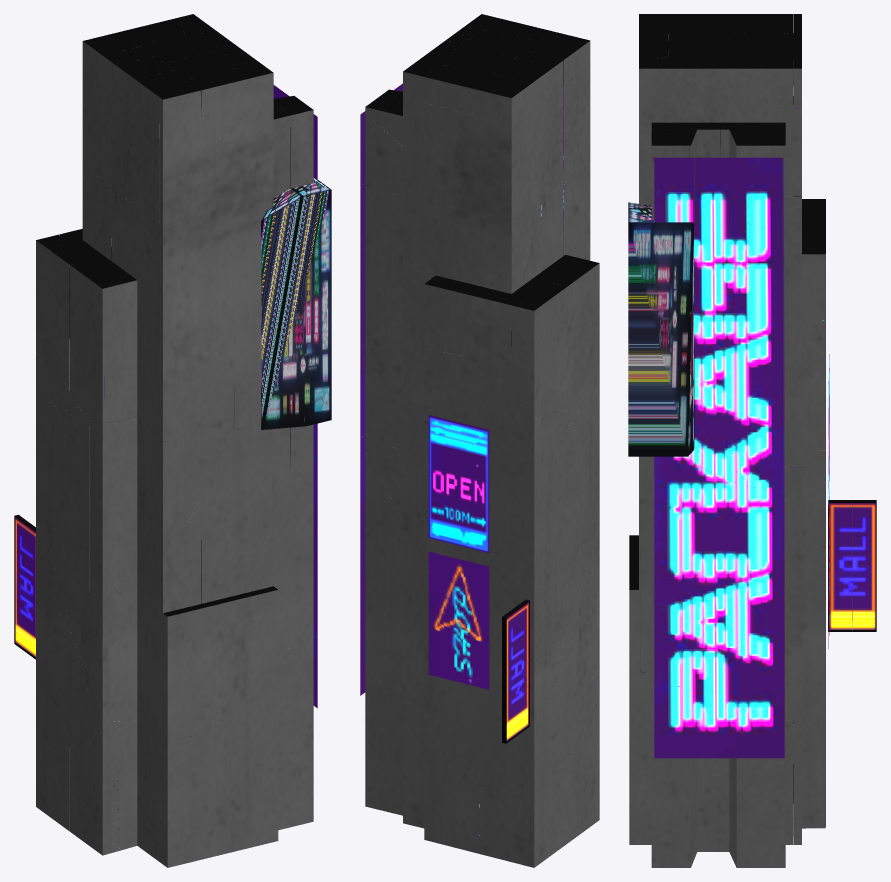
Rendered from shellyGebouw1_Broken.fbx.
3 renders of one model, left to right at view 1: azimuth 30°, elevation 25°; view 2: azimuth 150°, elevation 25°; view 3: azimuth 270°, elevation 25°, orthographic. The views are drawn at different scales.
Parts seen in each view (by area): view 1: Cube.001_cell.029, Cube.001_cell.013, Cube.001_cell.033, Cube.001_cell.055, Cube.001_cell.078, Cube.001_cell.060, Cube.001_cell.093, Cube.001_cell.023, Cube.001_cell.066, Cube.001_cell.086, Cube.001_cell.030, Cube.001_cell.021 (+50 smaller); view 2: Cube.001_cell.089, Cube.001_cell.045, Cube.001_cell.056, Cube.001_cell.072, Cube.001_cell.019, Cube.001_cell.053, Cube.001_cell.026, Cube.001_cell.032, Cube.001_cell.036, Cube.001_cell.003, Cube.001_cell.070, Cube.001_cell.082 (+59 smaller); view 3: Cube.001_cell.101, Cube.001_cell.013, Cube.001_cell.111, Cube.001_cell.110, Cube.001_cell.100, Cube.001_cell.115, Cube.001_cell.060, Cube.001_cell.123, Cube.001_cell.089, Cube.001_cell.020, Cube.001_cell.113, Cube.001_cell.056 (+45 smaller).
Part boxes in pixels (x1=…): Cube.001_cell.029: x1=147, y1=212, x2=234, y2=441; Cube.001_cell.013: x1=261, y1=178, x2=331, y2=429; Cube.001_cell.033: x1=101, y1=419, x2=222, y2=598; Cube.001_cell.055: x1=67, y1=558, x2=149, y2=728; Cube.001_cell.078: x1=201, y1=427, x2=258, y2=605; Cube.001_cell.060: x1=207, y1=641, x2=313, y2=770; Cube.001_cell.093: x1=165, y1=733, x2=223, y2=867; Cube.001_cell.023: x1=218, y1=99, x2=290, y2=221; Cube.001_cell.066: x1=104, y1=206, x2=146, y2=425; Cube.001_cell.086: x1=204, y1=592, x2=261, y2=732; Cube.001_cell.030: x1=150, y1=506, x2=203, y2=740; Cube.001_cell.021: x1=234, y1=211, x2=266, y2=429; Cube.001_cell.089: x1=365, y1=330, x2=575, y2=474; Cube.001_cell.045: x1=465, y1=651, x2=599, y2=796; Cube.001_cell.056: x1=398, y1=192, x2=473, y2=339; Cube.001_cell.072: x1=465, y1=213, x2=532, y2=394; Cube.001_cell.019: x1=403, y1=631, x2=568, y2=768; Cube.001_cell.053: x1=403, y1=101, x2=473, y2=212; Cube.001_cell.026: x1=460, y1=446, x2=554, y2=589; Cube.001_cell.032: x1=473, y1=115, x2=527, y2=221; Cube.001_cell.036: x1=365, y1=451, x2=389, y2=683; Cube.001_cell.003: x1=540, y1=205, x2=599, y2=413; Cube.001_cell.070: x1=424, y1=741, x2=479, y2=853; Cube.001_cell.082: x1=390, y1=497, x2=419, y2=691; Cube.001_cell.101: x1=694, y1=222, x2=784, y2=448; Cube.001_cell.013: x1=628, y1=202, x2=693, y2=456; Cube.001_cell.111: x1=654, y1=456, x2=702, y2=686; Cube.001_cell.110: x1=740, y1=485, x2=784, y2=735; Cube.001_cell.100: x1=702, y1=468, x2=740, y2=702; Cube.001_cell.115: x1=654, y1=686, x2=784, y2=758; Cube.001_cell.060: x1=629, y1=671, x2=785, y2=811; Cube.001_cell.123: x1=688, y1=397, x2=784, y2=492; Cube.001_cell.089: x1=694, y1=319, x2=825, y2=489; Cube.001_cell.020: x1=713, y1=768, x2=770, y2=867; Cube.001_cell.113: x1=694, y1=157, x2=758, y2=222; Cube.001_cell.056: x1=785, y1=196, x2=813, y2=343.
Size of the model in its own units: 949 by 3504 by 1015.
